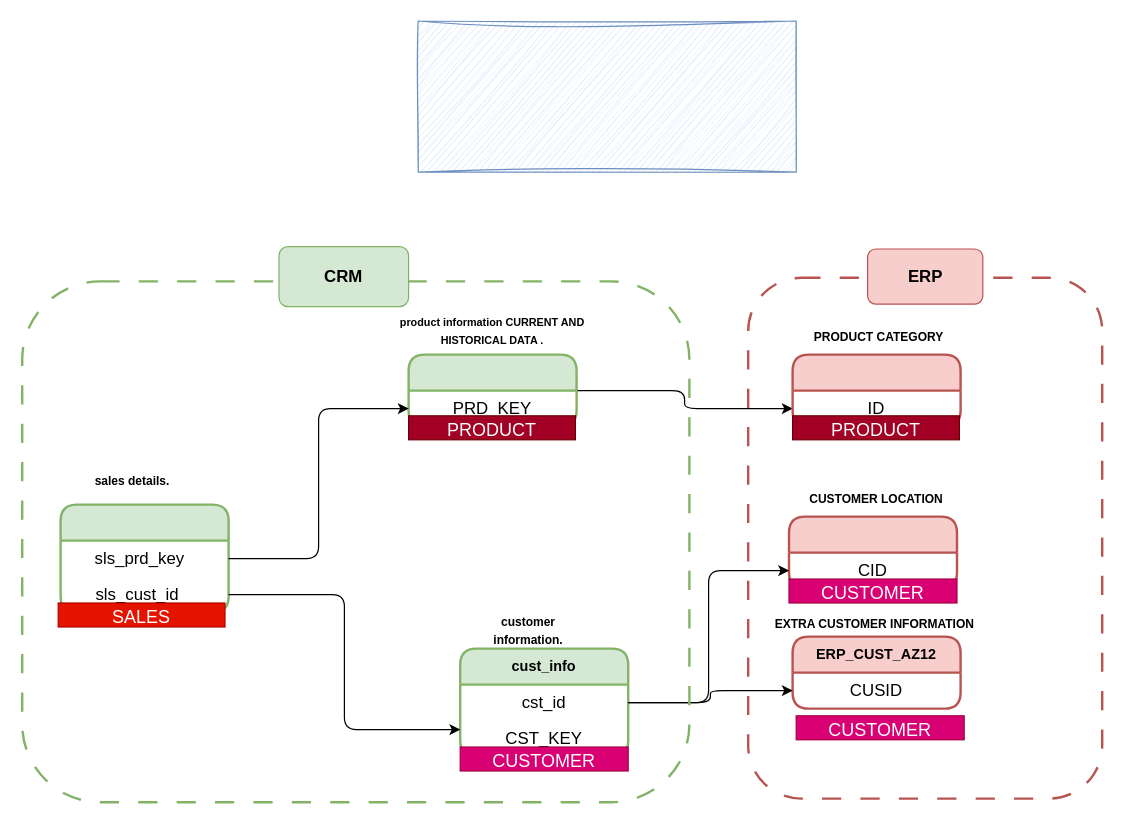
Image size: 1123x824. Some labels were removed from this diagram. The shapes that lost their labels are listed below. From the top down, each one's box as (x1, y1, x2, y2) in pixels, then its label:
(417, 20, 796, 172): DATA INTEGRATION
(407, 353, 577, 427): crm_prd_info
(791, 353, 961, 427): ERP_PX_CAT_G1V2
(59, 503, 229, 613): crm_sales_details
(787, 515, 958, 589): ERP_LOC_A101
